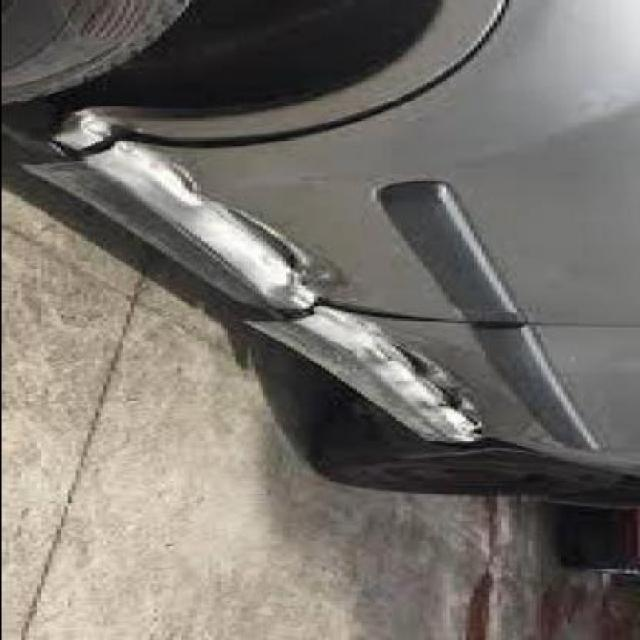damage: (16, 111, 526, 450)
